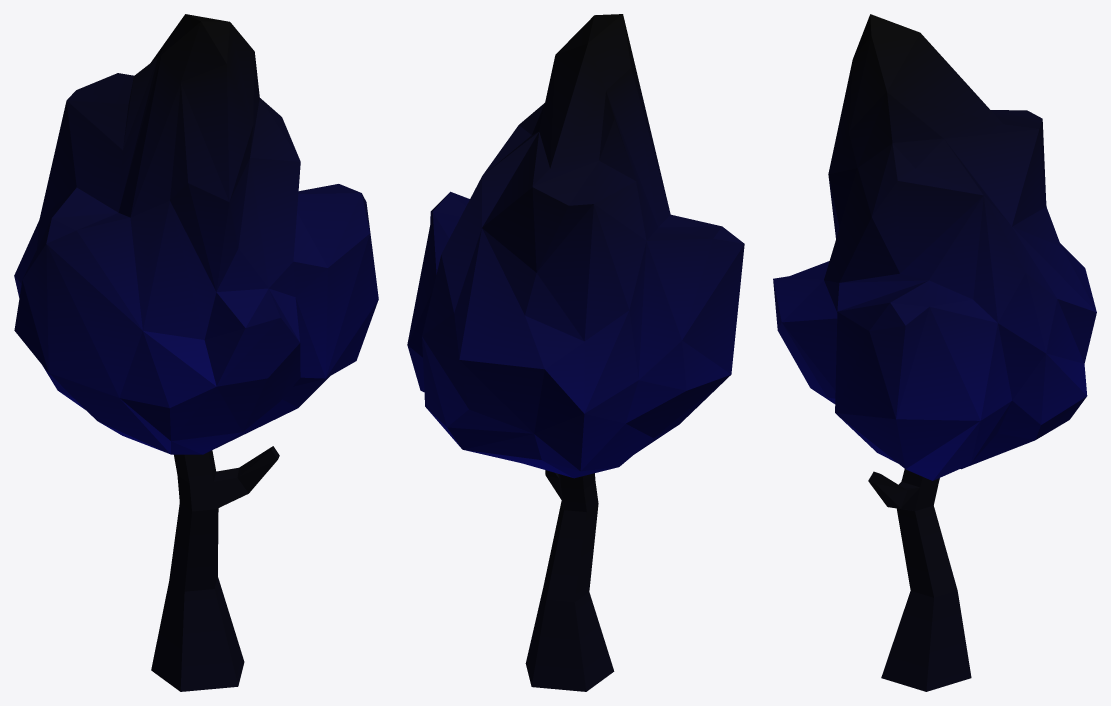
Rendered from arbolguapo.FBX.
3 renders of one model, left to right at view 1: azimuth 30°, elevation 25°; view 2: azimuth 150°, elevation 25°; view 3: azimuth 270°, elevation 25°, orthographic. The views are drawn at different scales.
Visible parts, largest first — view 1: SM_Tree_01; view 2: SM_Tree_01; view 3: SM_Tree_01.
Part boxes in pixels (x1=…): SM_Tree_01: x1=14, y1=14, x2=378, y2=691; SM_Tree_01: x1=407, y1=14, x2=744, y2=691; SM_Tree_01: x1=773, y1=14, x2=1096, y2=691.
Bounding box in the file's own units: 8.08 × 15.78 × 7.19.
